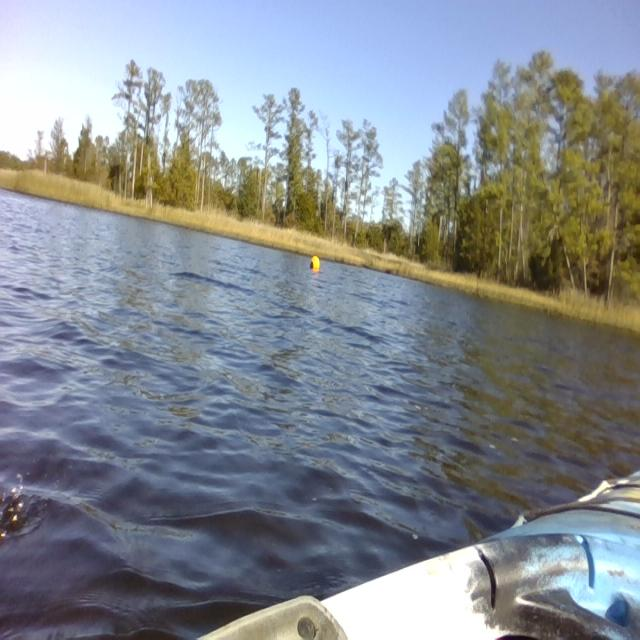Buoy: (308, 250, 322, 276)
